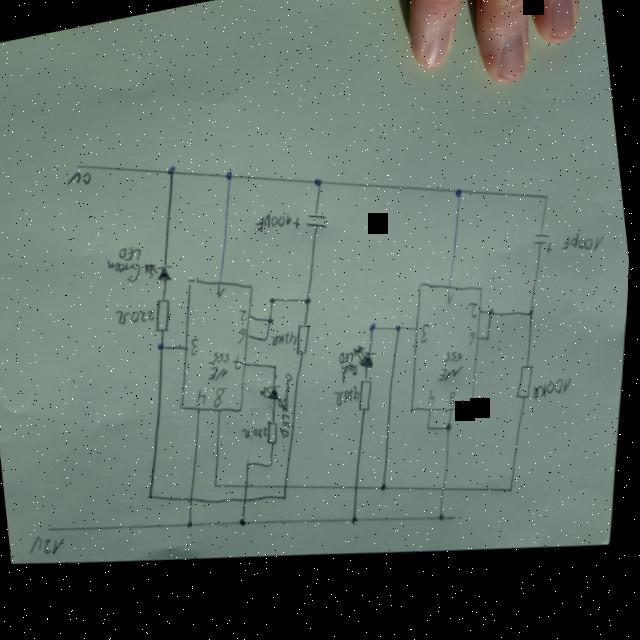capacitor: (292, 210, 330, 239), (533, 237, 555, 264)
crossover: (356, 487, 363, 497), (245, 499, 252, 508), (191, 498, 198, 507), (246, 485, 253, 494), (285, 486, 292, 495), (443, 490, 450, 499)
diode: (145, 258, 177, 288), (355, 347, 382, 377), (262, 385, 285, 407)
junction: (314, 181, 325, 192), (168, 166, 178, 178), (455, 193, 465, 204), (158, 343, 168, 354), (305, 299, 315, 310), (226, 173, 235, 184), (371, 326, 380, 337), (354, 519, 363, 530), (189, 521, 198, 532), (397, 328, 405, 340), (448, 427, 456, 439), (150, 493, 159, 503), (383, 487, 391, 498), (271, 299, 279, 310), (242, 521, 251, 530), (442, 518, 450, 528), (215, 483, 223, 493), (248, 463, 256, 473), (269, 320, 277, 329), (490, 313, 497, 323), (511, 492, 518, 502), (530, 315, 537, 324), (285, 497, 292, 506), (271, 464, 278, 473), (265, 338, 272, 347), (428, 430, 435, 438), (545, 200, 550, 208), (488, 342, 493, 349), (275, 367, 280, 373)
resistor: (515, 371, 540, 407), (357, 380, 380, 418), (154, 298, 176, 337), (295, 325, 317, 360), (266, 420, 285, 451)
terminal: (76, 163, 84, 172), (50, 525, 57, 534)
text: (275, 376, 303, 442), (106, 247, 148, 290), (561, 235, 609, 265), (436, 354, 469, 389), (30, 532, 71, 560), (534, 382, 578, 408), (116, 305, 159, 330), (254, 211, 294, 237), (207, 352, 235, 386), (340, 354, 362, 389), (336, 389, 364, 412), (272, 334, 301, 354), (66, 171, 94, 190), (244, 428, 272, 446), (214, 389, 230, 412), (421, 329, 434, 349), (449, 396, 461, 414), (469, 307, 481, 325), (198, 391, 210, 409), (192, 340, 203, 359), (234, 356, 245, 374), (239, 330, 250, 348), (217, 286, 230, 301), (429, 394, 439, 413), (447, 295, 458, 311), (470, 336, 480, 352), (240, 311, 251, 325)
